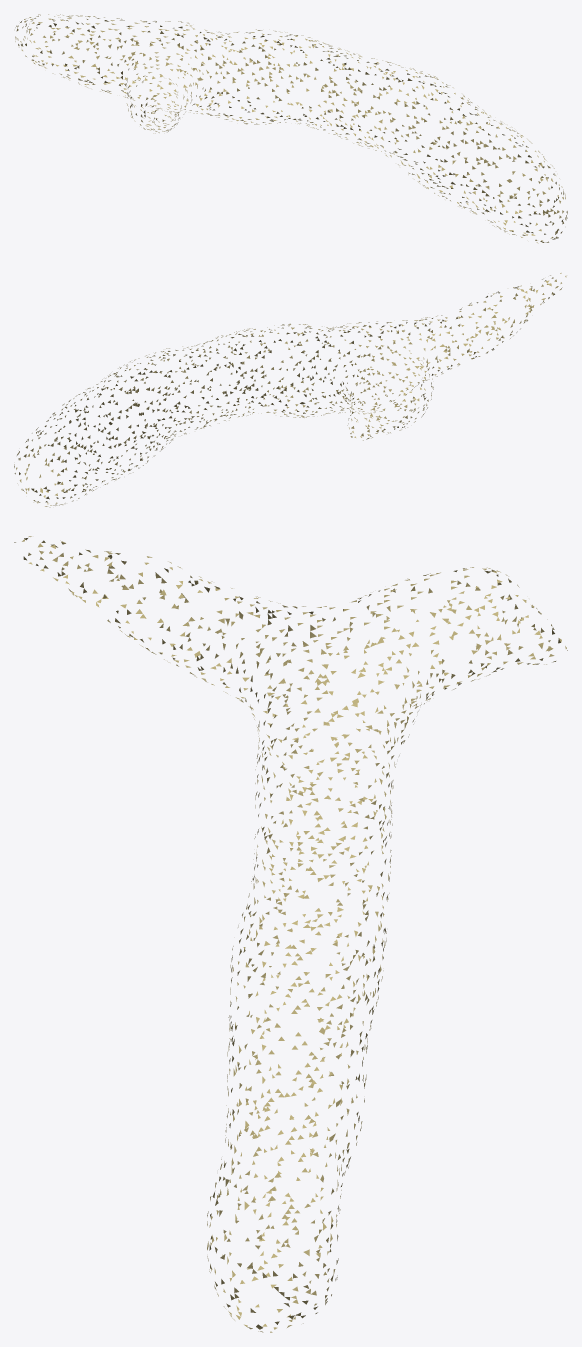
Rendered from morph_008.glb.
3 views of the same model, one above another, from view 1: azimuth 30°, elevation 25°; view 2: azimuth 150°, elevation 25°; view 3: azimuth 270°, elevation 25° (orthographic). The views are drawn at different scales.
Size of the model in its own units: 95.94 by 55.88 by 61.91.
